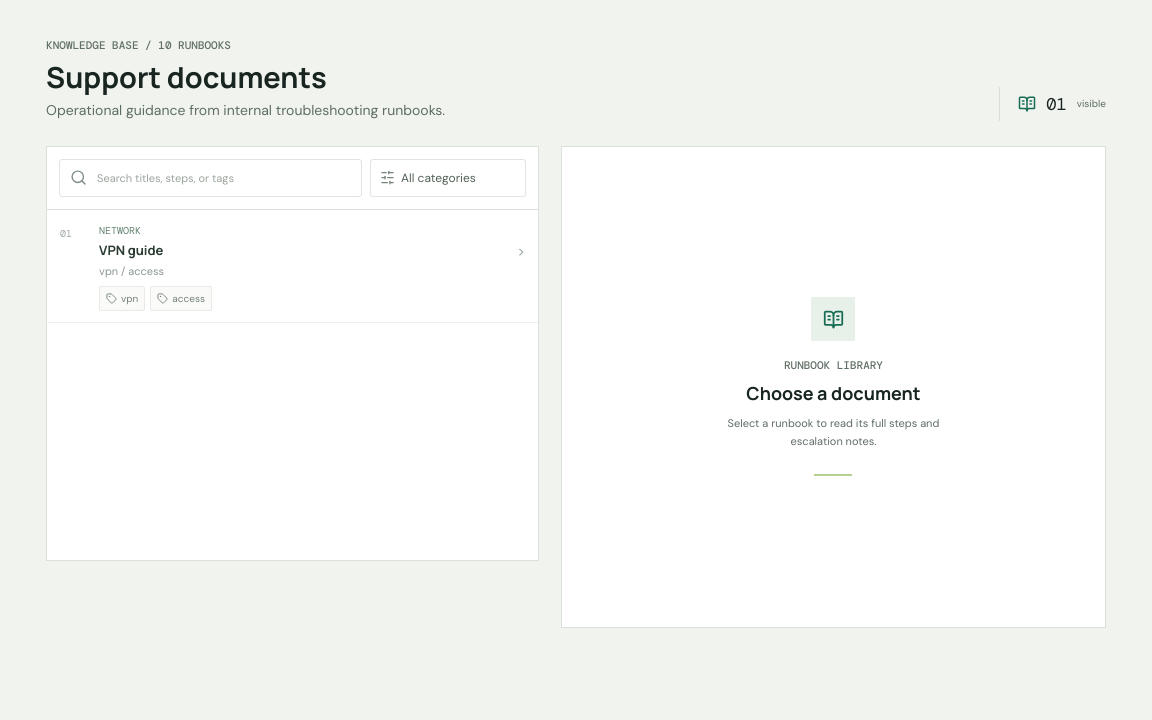
Scenario: DocumentsView › clears the selected tag when changing category and reports list and detail failures
This screenshot has width=1152, height=720.
Check: the button "01 Network VPN guide vpn / access >" is shown, box [60,214,525,286]
Click the button "vpn" at x=122, y=299, box [99,286,145,311]
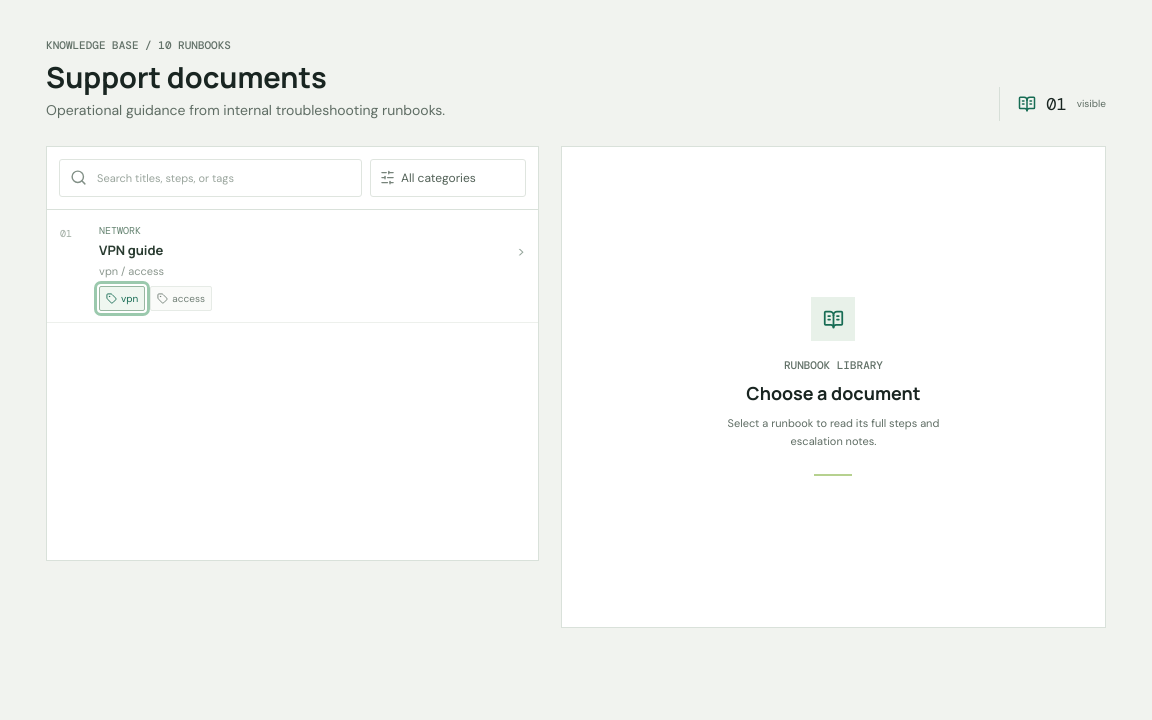
Select "Network" in the dropdown named "Filter by category" at x=458, y=178, box [401,160,516,196]
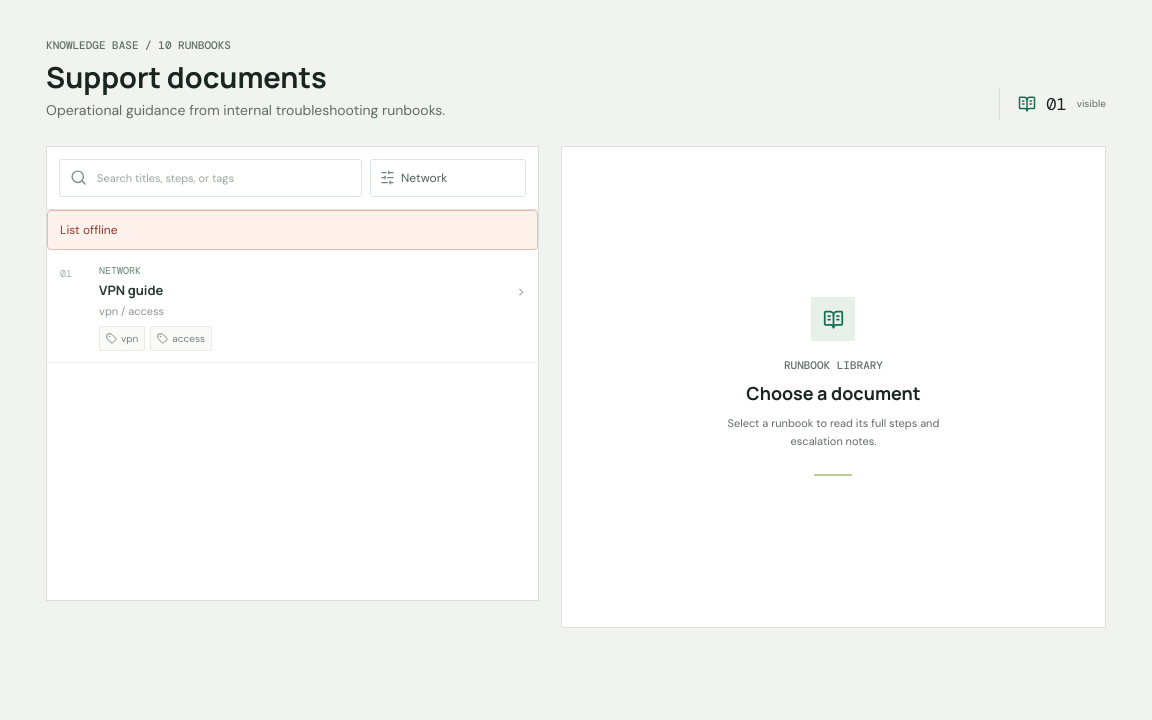
Check: the text "List offline" is shown, box [47,210,538,250]
Click the button "01 Network VPN guide vpn / access >" at x=120, y=270, box [60,254,525,326]
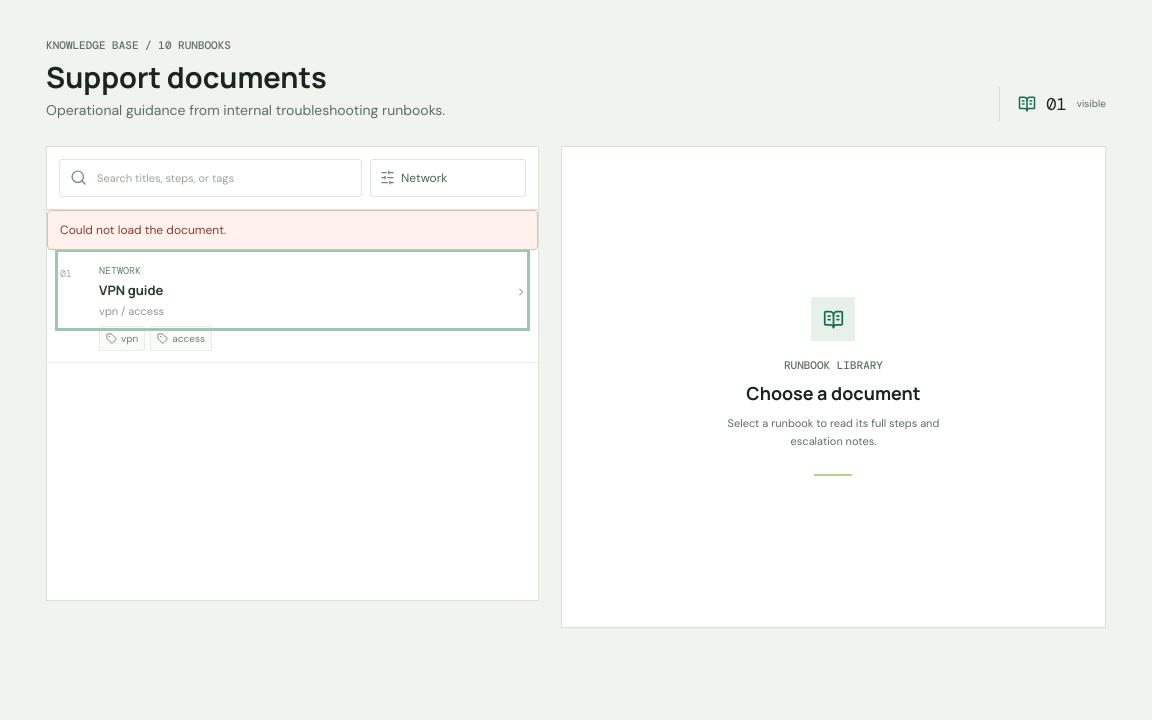
Check: the text "Could not load the document." is shown, box [47,210,538,250]
